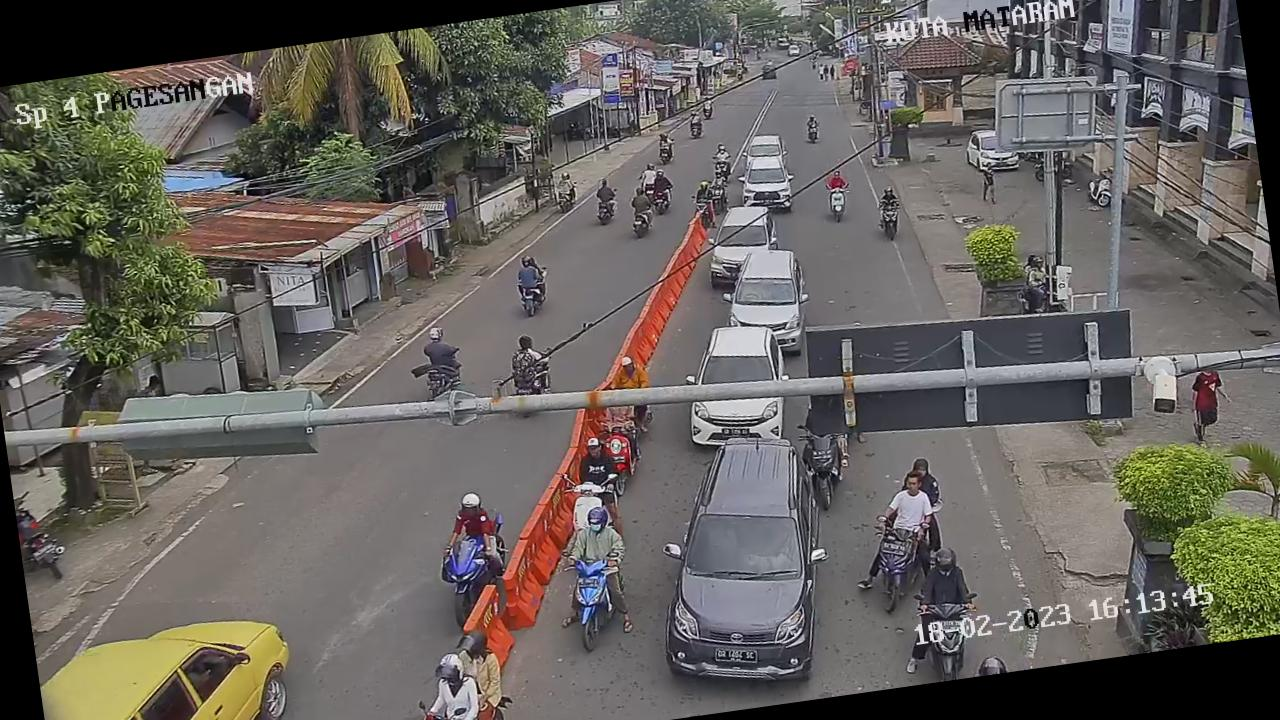car: (639, 422, 845, 695), (28, 571, 307, 720), (674, 318, 800, 454), (714, 246, 810, 337), (698, 198, 786, 294), (731, 148, 800, 214), (960, 120, 1025, 180), (738, 125, 791, 169)
motorcycle: (548, 546, 632, 656), (862, 509, 938, 612), (430, 524, 498, 628), (790, 417, 859, 516), (552, 463, 618, 542), (595, 417, 642, 490), (822, 180, 852, 224), (409, 698, 467, 720), (1086, 168, 1114, 212), (874, 202, 904, 243), (686, 191, 716, 231), (709, 152, 736, 185), (704, 178, 730, 212), (804, 120, 824, 144)
person: (904, 536, 982, 628), (556, 498, 630, 578), (440, 484, 502, 564), (417, 646, 483, 720), (562, 431, 624, 500), (874, 467, 934, 536), (414, 328, 468, 398), (504, 327, 552, 384), (606, 351, 653, 402), (512, 246, 550, 294), (686, 175, 717, 213), (588, 173, 618, 208), (626, 184, 655, 220), (820, 161, 850, 195), (632, 160, 656, 194), (873, 180, 900, 210), (648, 164, 674, 195), (708, 138, 732, 170), (706, 165, 730, 195), (804, 108, 822, 130)
